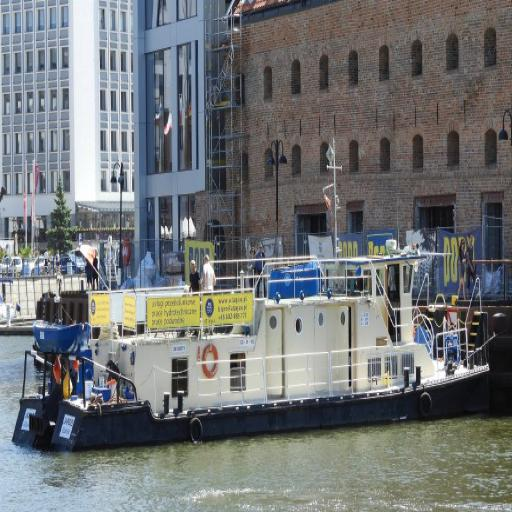tugboat: (11, 212, 495, 464)
